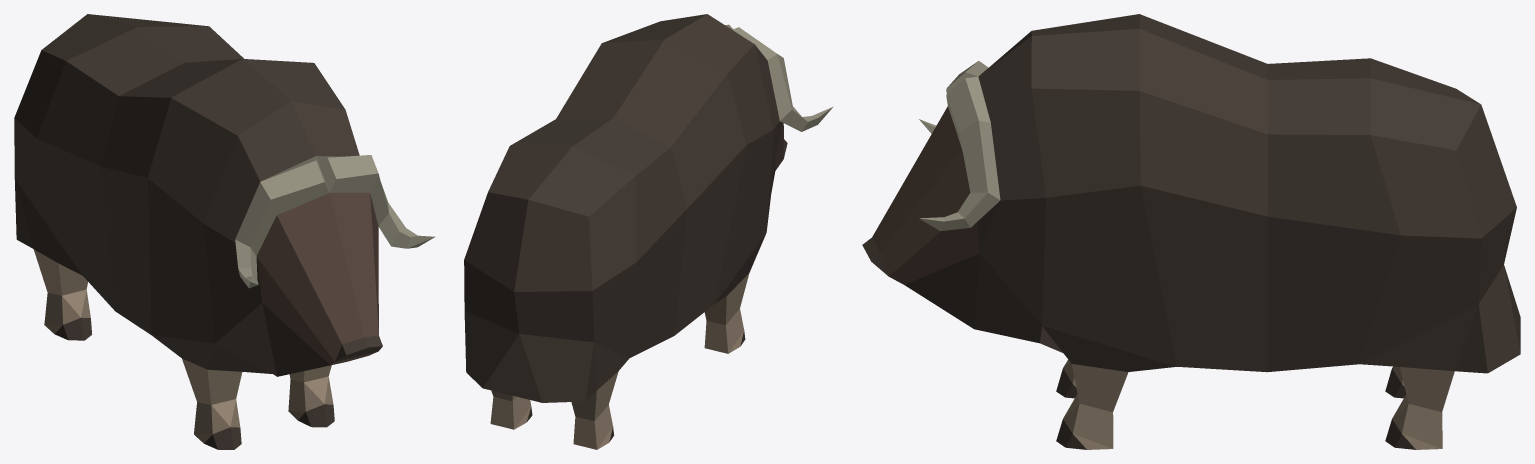
File: Model_Jakouushi 1.fbx
3 views of the same model, side by side, from view 1: azimuth 30°, elevation 25°; view 2: azimuth 150°, elevation 25°; view 3: azimuth 270°, elevation 25° (orthographic). The views are drawn at different scales.
Parts seen in each view (by area): view 1: Jakouushi; view 2: Jakouushi; view 3: Jakouushi.
Boxes of the visible parts, x1,y1,x2,y2 form: Jakouushi: (14, 14, 435, 449); Jakouushi: (464, 14, 833, 449); Jakouushi: (862, 14, 1520, 449).
Size of the model in its own units: 114 by 204 by 314.
